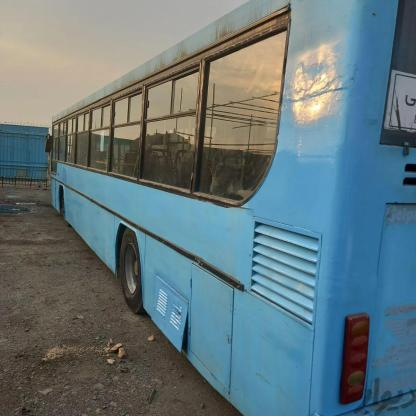Bus: (40, 0, 416, 416)
